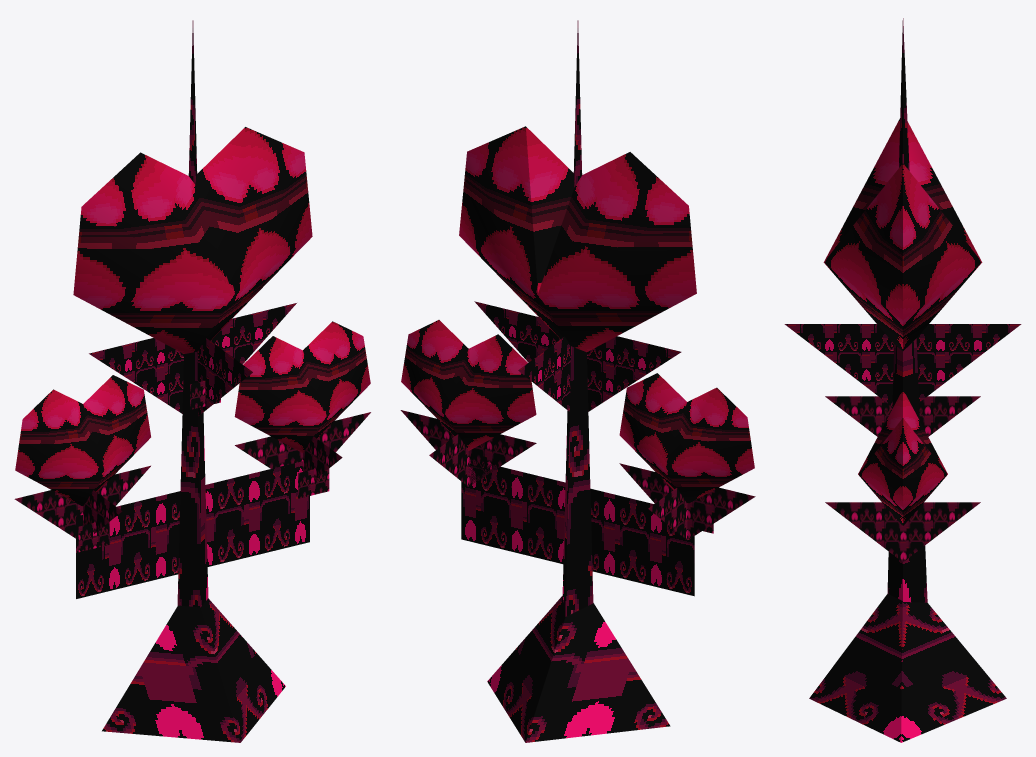
Rendered from 3826kg3_ser07.gltf.
3 views of the same model, side by side, from view 1: azimuth 30°, elevation 25°; view 2: azimuth 150°, elevation 25°; view 3: azimuth 270°, elevation 25° (orthographic).
Visible parts, largest first — view 1: 3826kg3_ser07; view 2: 3826kg3_ser07; view 3: 3826kg3_ser07.
Boxes of the visible parts, x1=… form: 3826kg3_ser07: x1=14, y1=20, x2=370, y2=742; 3826kg3_ser07: x1=400, y1=20, x2=755, y2=742; 3826kg3_ser07: x1=784, y1=18, x2=1021, y2=742.
Bounding box in the file's own units: 0.7881 × 1.46 × 0.4604.
Materials: 3 (3 with a texture image).
